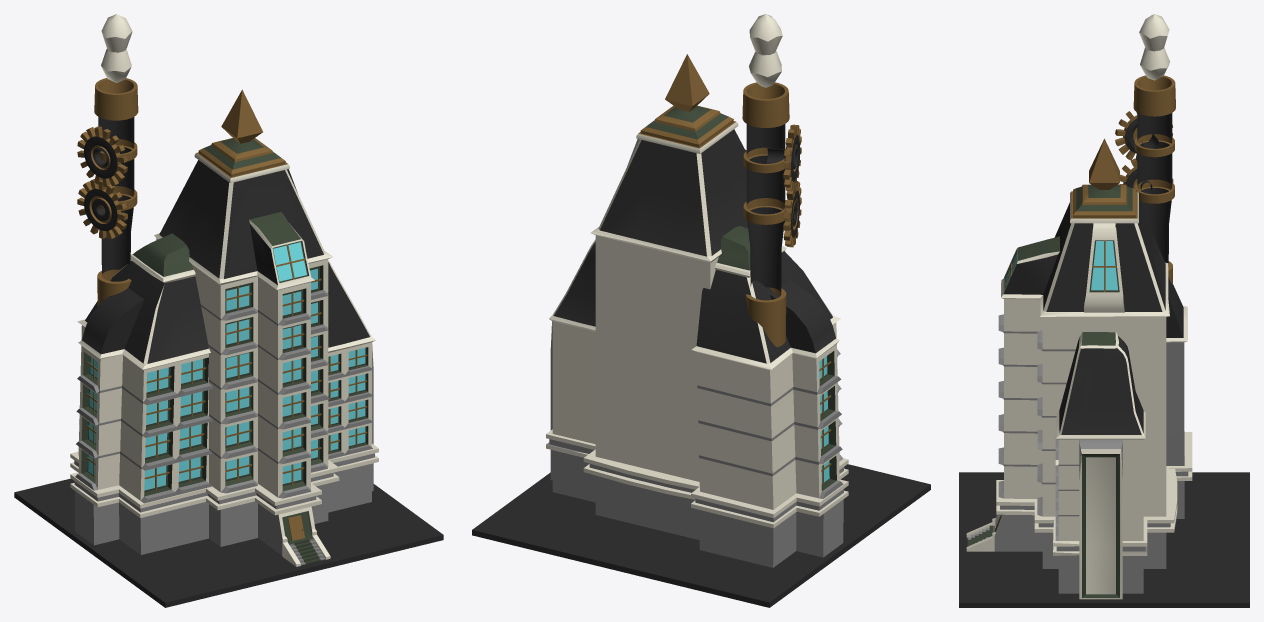
Rendered from house2.fbx.
3 views of the same model, side by side, from view 1: azimuth 30°, elevation 25°; view 2: azimuth 150°, elevation 25°; view 3: azimuth 270°, elevation 25° (orthographic). The views are drawn at different scales.
Parts seen in each view (by area): view 1: Cube.001; view 2: Cube.001; view 3: Cube.001.
Boxes of the visible parts, left/top/right/bottom form: Cube.001: left=14, top=14, right=443, bottom=607; Cube.001: left=472, top=14, right=930, bottom=607; Cube.001: left=959, top=14, right=1249, bottom=607.
Bounding box in the file's own units: 17.71 × 30.79 × 16.63.
